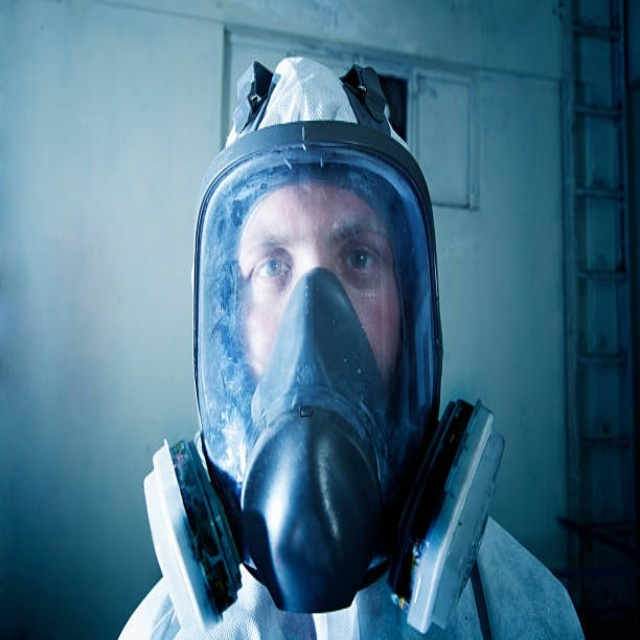Mascara: (143, 113, 506, 632)
